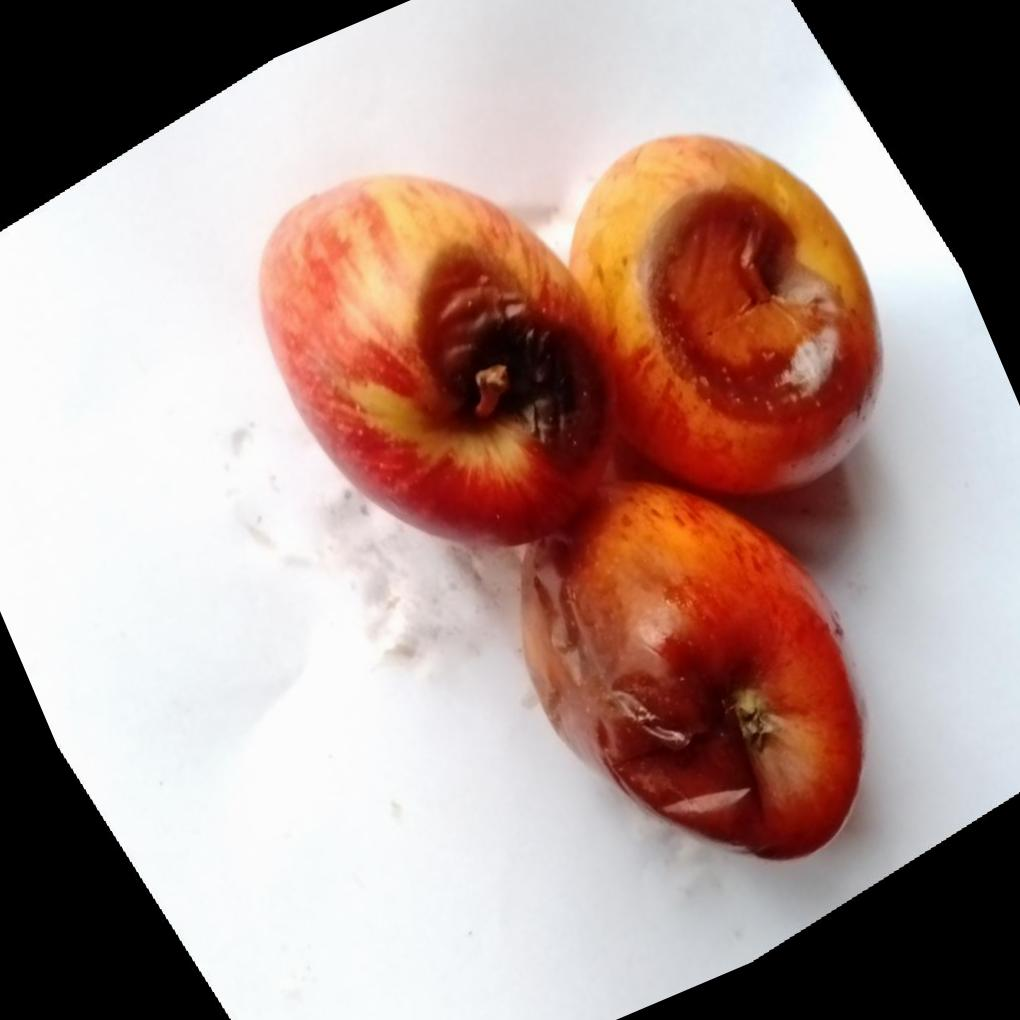FreshOrange: (255, 129, 881, 858)
